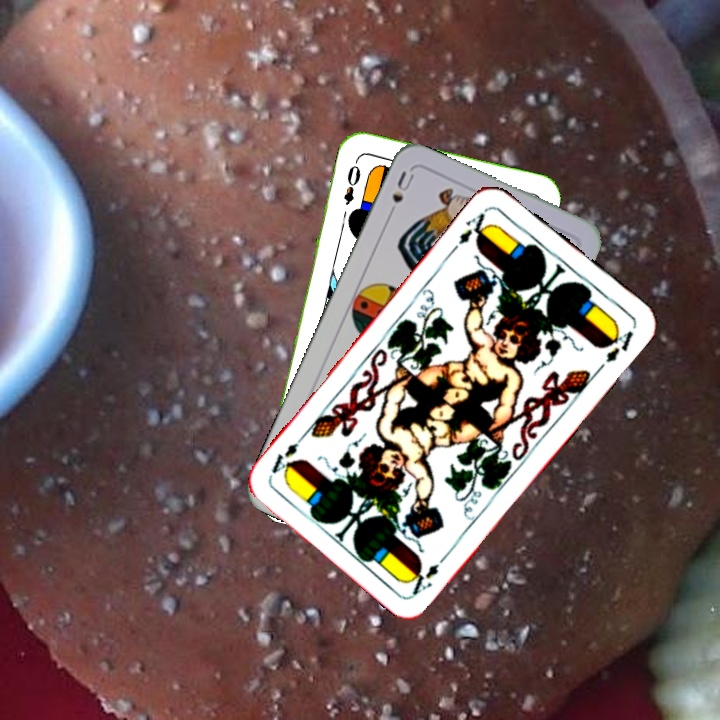EA: (454, 208, 493, 248), (405, 559, 442, 598)
EO: (340, 155, 363, 208)
SU: (383, 167, 417, 222)
